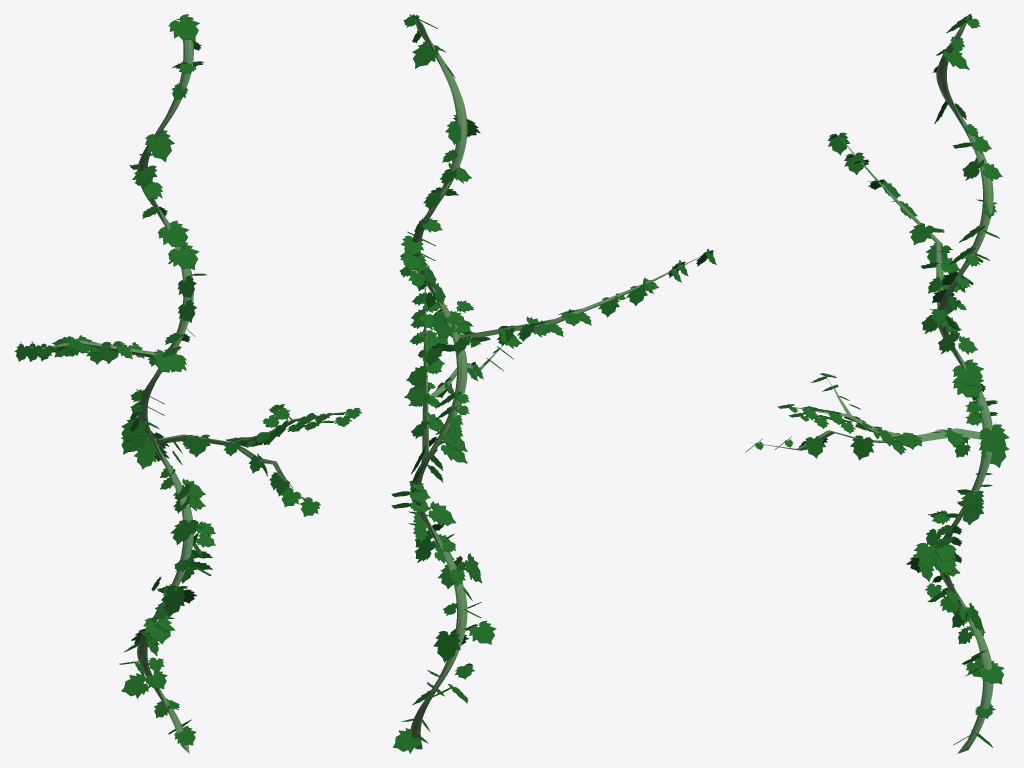
Rendered from tuta.fbx.
3 views of the same model, side by side, from view 1: azimuth 30°, elevation 25°; view 2: azimuth 150°, elevation 25°; view 3: azimuth 270°, elevation 25° (orthographic).
Visible parts, largest first — view 1: pHelix1; view 2: pHelix1, pasted__pasted__pasted__pasted__pasted__pasted__pCube1; view 3: pHelix1, pasted__pasted__pasted__pasted__pCube1 (×2).
Boxes of the visible parts, x1=… form: pHelix1: x1=23, y1=17, x2=345, y2=753; pHelix1: x1=410, y1=17, x2=710, y2=749; pasted__pasted__pasted__pasted__pasted__pasted__pCube1: x1=433, y1=631, x2=460, y2=662; pHelix1: x1=751, y1=17, x2=993, y2=753; pasted__pasted__pasted__pasted__pCube1 (×2): x1=952, y1=359, x2=1009, y2=456.
Bounding box in the file's own units: 46.31 × 102 × 33.07.
